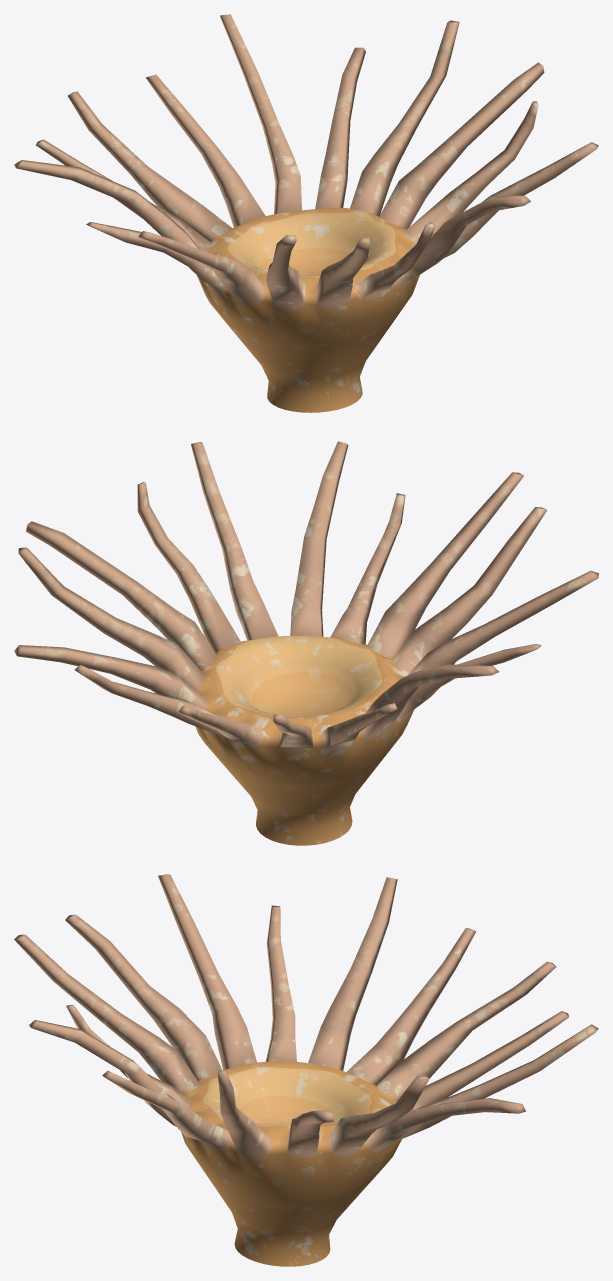
Rendered from northPoleAnemone01.fbx.
3 views of the same model, one above another, from view 1: azimuth 30°, elevation 25°; view 2: azimuth 150°, elevation 25°; view 3: azimuth 270°, elevation 25° (orthographic).
Visible parts, largest first — view 1: northPoleAnemone_export; view 2: northPoleAnemone_export; view 3: northPoleAnemone_export.
Boxes of the visible parts, box(x1,y1,x2,y2) form: northPoleAnemone_export: box(14, 14, 598, 412); northPoleAnemone_export: box(14, 441, 598, 845); northPoleAnemone_export: box(14, 874, 598, 1266).
Bounding box in the file's own units: 153 × 80.65 × 156.
Materials: 1 (1 with a texture image).
